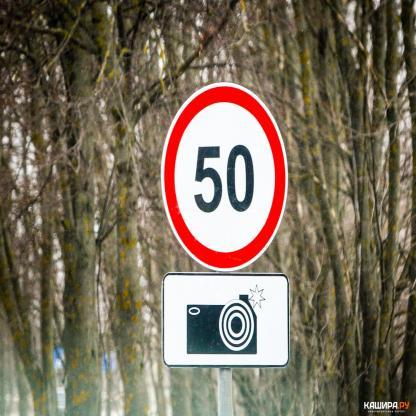road_sign: (162, 84, 288, 271), (162, 271, 292, 367)
